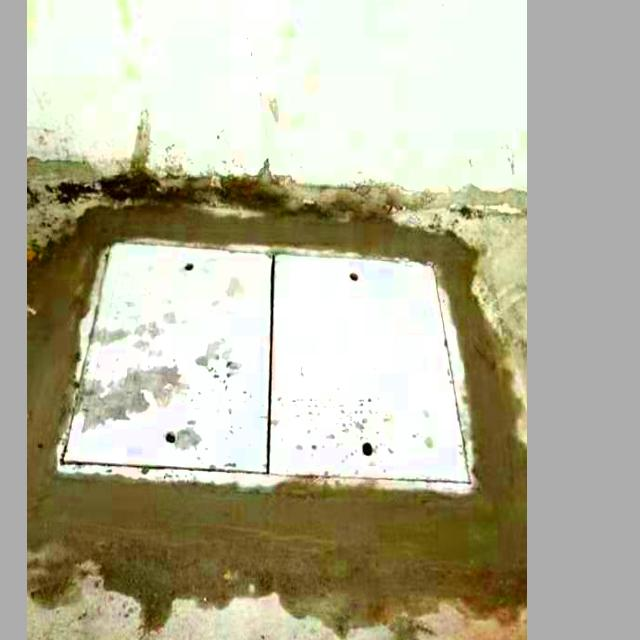good: (53, 247, 470, 477)
